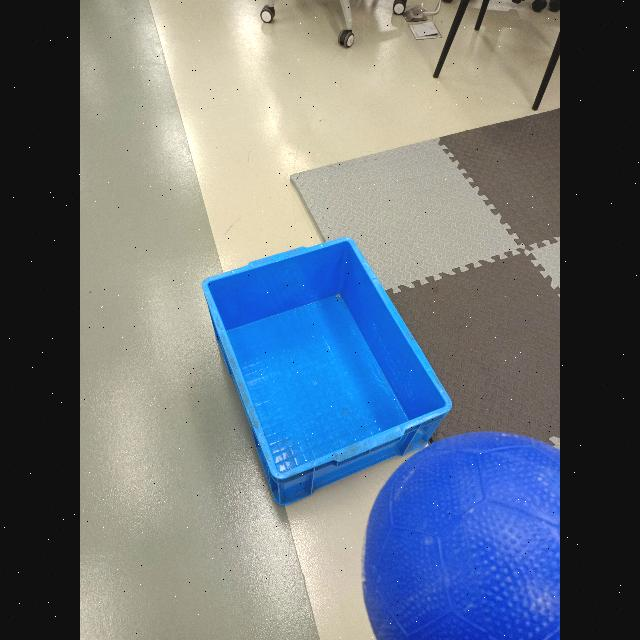B: (360, 432, 560, 640)
